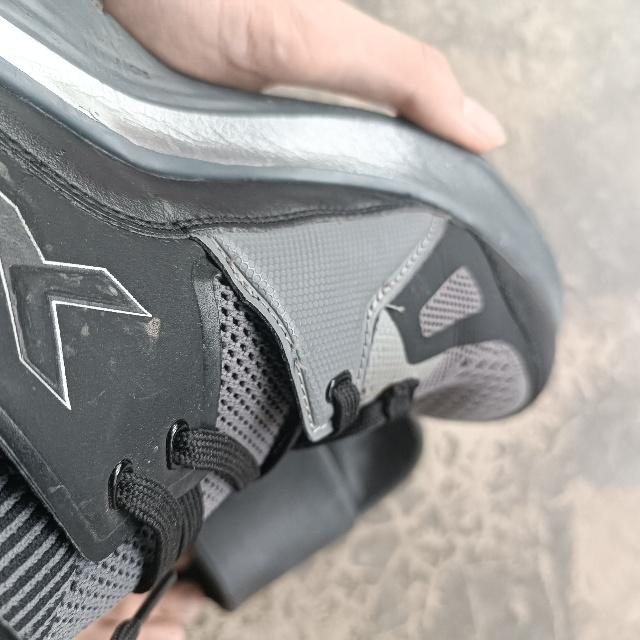broken-error: (288, 330, 306, 376)
